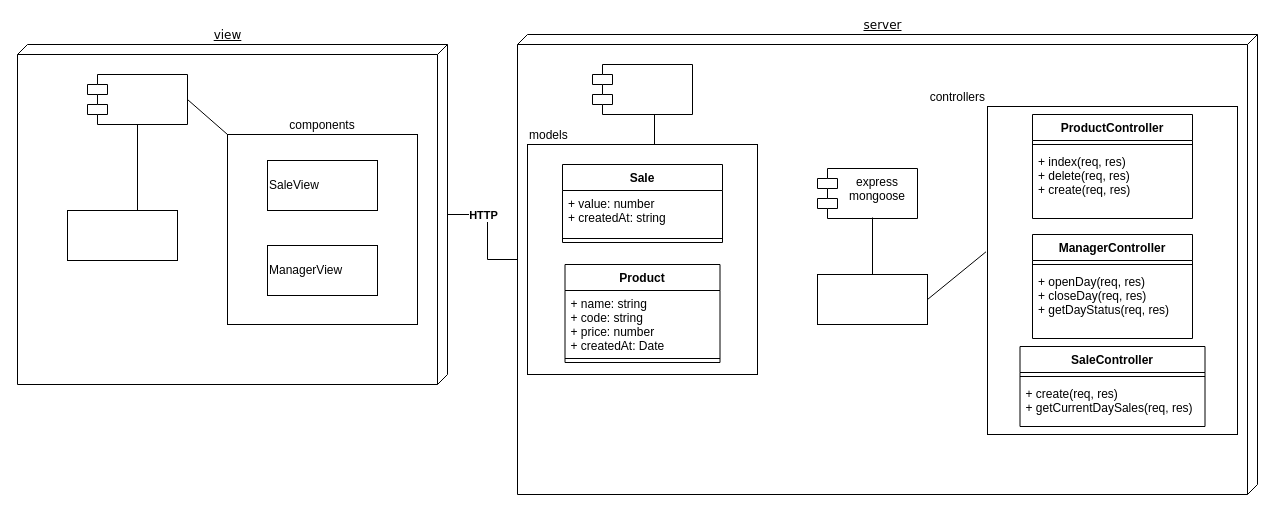
The diagram is 1275 pixels wide and 512 high, and some of its shapes have lost their labels. The centre of each missing label's shape, as x and y in pixels:
"App" belongs at [122,235].
"mongoose" belongs at [642,89].
"react" belongs at [137,99].
"server.js" belongs at [872,299].
